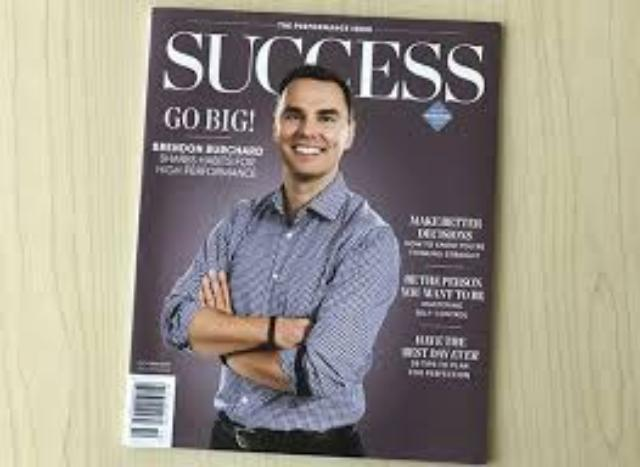cardboard paper: (121, 7, 503, 464)
